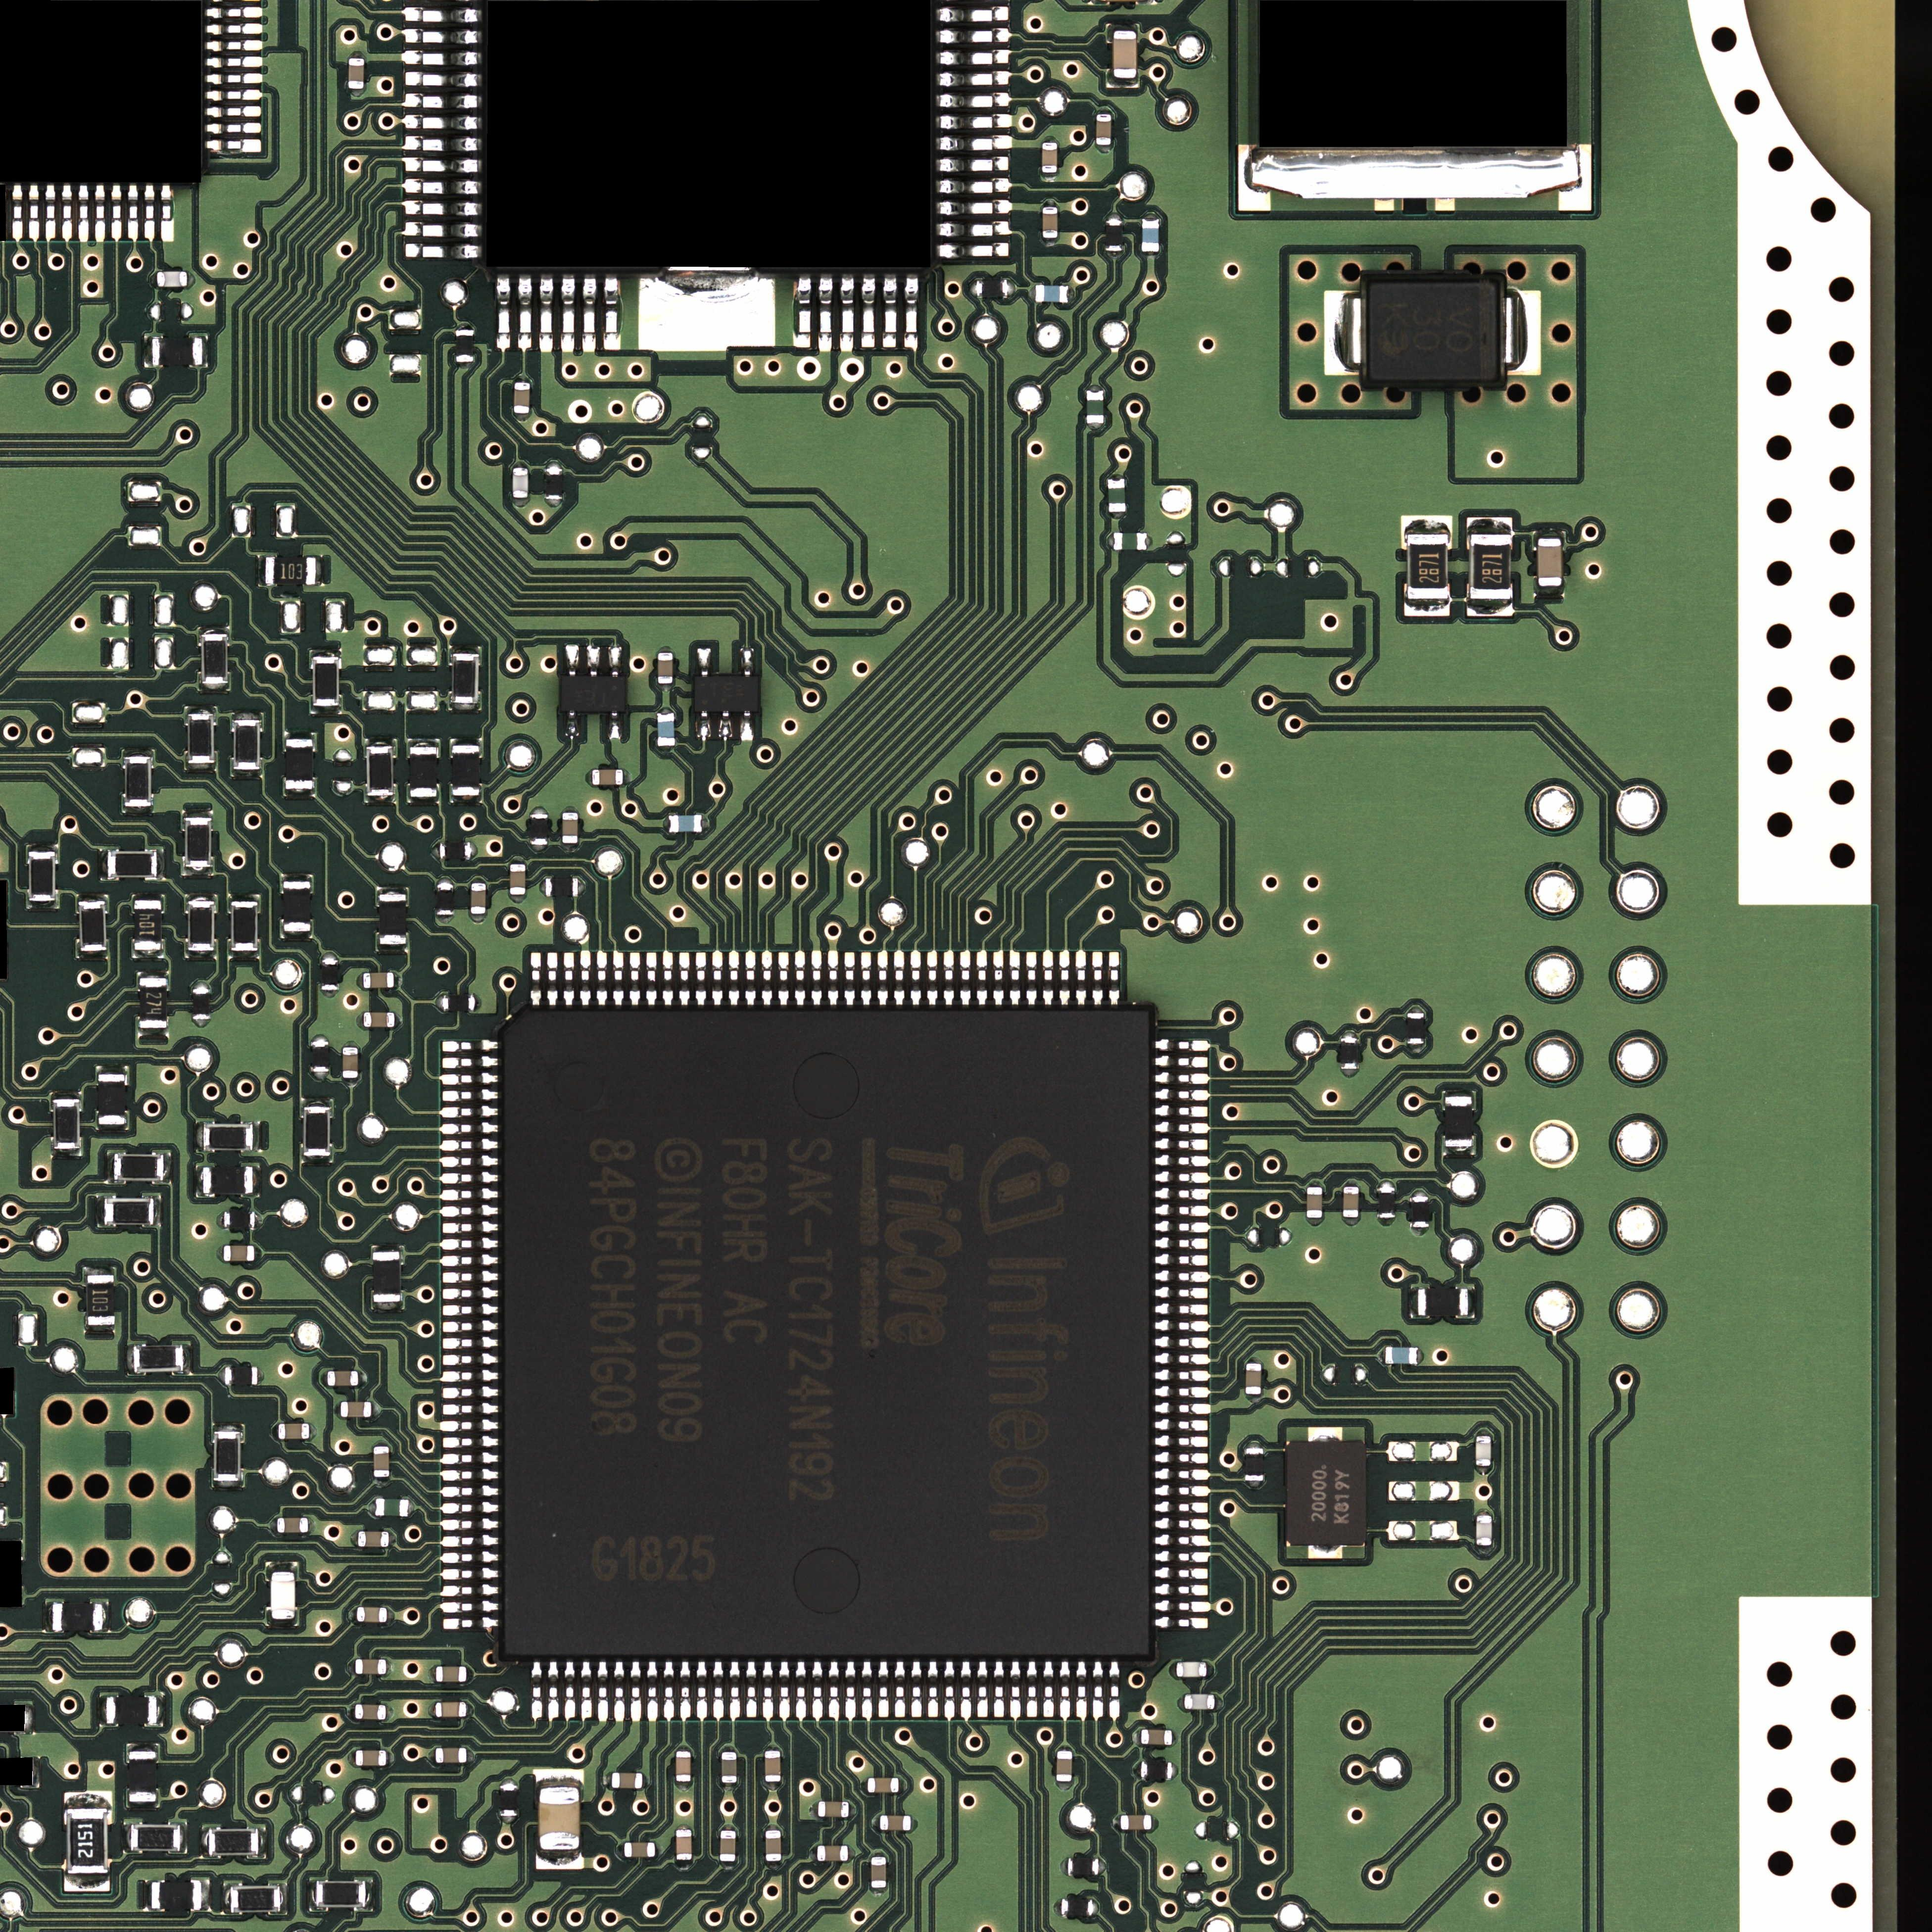Package: (501, 1008, 1150, 1656), (1366, 281, 1497, 382), (1284, 1440, 1368, 1545), (1407, 534, 1449, 600), (67, 1808, 108, 1874), (1470, 534, 1511, 600), (540, 1787, 579, 1849), (694, 676, 759, 711), (561, 676, 626, 711), (1417, 1286, 1468, 1316), (451, 745, 479, 796), (265, 557, 317, 586), (283, 881, 311, 931), (152, 338, 202, 366), (409, 747, 437, 796), (285, 740, 313, 789), (152, 1881, 202, 1909), (373, 1253, 402, 1302), (106, 1695, 156, 1723), (53, 1603, 103, 1631), (97, 1074, 126, 1123), (203, 1166, 253, 1194), (1444, 1097, 1472, 1146), (379, 895, 407, 943), (108, 851, 157, 878), (134, 901, 161, 950), (188, 901, 214, 950), (234, 720, 260, 770), (313, 656, 340, 706), (209, 1829, 258, 1856), (140, 978, 166, 1028), (87, 1276, 113, 1325), (203, 1123, 253, 1150), (317, 1881, 366, 1907), (129, 1752, 156, 1801), (214, 1431, 241, 1481), (53, 1099, 80, 1148), (202, 635, 228, 683), (115, 1154, 163, 1180), (232, 1886, 280, 1913), (134, 1345, 182, 1371), (30, 851, 55, 901), (126, 757, 150, 807), (186, 817, 211, 867), (368, 747, 393, 796), (131, 1826, 180, 1851), (104, 1200, 154, 1224), (188, 715, 212, 763), (453, 655, 478, 702), (80, 902, 104, 950), (232, 902, 257, 950), (304, 1108, 329, 1155), (1537, 538, 1562, 586), (271, 1573, 295, 1619), (1113, 30, 1136, 78), (545, 878, 579, 897), (225, 1366, 258, 1385), (1244, 1447, 1263, 1481), (977, 280, 1008, 299), (669, 816, 702, 833), (375, 1499, 409, 1516), (1113, 533, 1146, 550), (1035, 285, 1069, 303), (225, 1210, 255, 1230), (456, 329, 474, 361), (439, 842, 471, 860), (531, 814, 548, 846), (193, 987, 211, 1019), (278, 1422, 310, 1440), (442, 994, 474, 1012), (1086, 391, 1104, 423), (1141, 219, 1159, 251), (1108, 479, 1125, 511), (1385, 1346, 1417, 1364), (1341, 1039, 1359, 1070), (1412, 1196, 1430, 1228), (1407, 1012, 1424, 1044), (1062, 1898, 1093, 1916), (658, 713, 674, 747), (545, 469, 563, 499), (311, 1042, 329, 1072), (1069, 1858, 1099, 1875), (363, 973, 395, 989), (322, 959, 338, 991), (437, 883, 453, 915), (563, 812, 579, 844), (867, 1778, 899, 1794), (817, 1801, 849, 1817), (357, 1530, 389, 1546), (223, 1246, 255, 1261), (373, 1445, 389, 1477), (327, 1371, 359, 1387), (363, 1012, 395, 1028), (879, 1815, 911, 1831), (435, 1748, 467, 1764), (435, 1667, 467, 1683), (1042, 207, 1058, 239), (1106, 219, 1122, 251), (471, 883, 487, 913), (157, 271, 188, 287), (510, 865, 525, 895), (593, 770, 623, 786), (349, 58, 364, 88), (513, 469, 529, 499), (625, 1842, 655, 1858), (501, 1785, 517, 1815), (356, 1704, 386, 1720), (764, 1752, 780, 1782), (817, 1845, 847, 1861), (676, 1752, 692, 1782), (612, 1773, 642, 1789), (720, 1831, 736, 1861), (870, 1858, 886, 1888), (435, 1702, 465, 1718), (341, 1401, 372, 1417), (676, 1829, 692, 1859), (357, 1606, 387, 1622), (356, 1750, 386, 1766), (1476, 1514, 1491, 1545), (1476, 1437, 1491, 1467), (1177, 1661, 1207, 1677), (1246, 1364, 1261, 1394), (1141, 1729, 1171, 1744), (1343, 1187, 1359, 1217), (1056, 1752, 1072, 1782), (1141, 1762, 1171, 1778), (1307, 1187, 1323, 1217), (1378, 1187, 1394, 1217), (515, 382, 529, 414), (722, 1752, 736, 1783), (1042, 143, 1058, 172), (1120, 1815, 1152, 1829), (1185, 1693, 1214, 1709), (658, 653, 672, 683), (356, 1660, 386, 1674), (343, 1047, 357, 1077), (766, 1831, 780, 1861), (278, 1518, 308, 1532), (1097, 115, 1111, 145)
Solder: (1238, 150, 1591, 211), (639, 278, 775, 350), (1323, 290, 1366, 375), (1499, 290, 1541, 375), (405, 50, 483, 65), (403, 179, 481, 195), (405, 200, 481, 216), (603, 274, 619, 350), (817, 274, 833, 350), (839, 274, 855, 350), (794, 274, 810, 349), (938, 92, 1012, 108), (938, 200, 1012, 216), (938, 242, 1010, 258), (938, 221, 1010, 237), (938, 7, 1008, 23), (405, 30, 483, 44), (405, 73, 483, 87), (403, 94, 481, 108), (405, 157, 483, 172), (405, 244, 483, 258), (939, 28, 1008, 44), (939, 50, 1008, 65), (939, 71, 1008, 87), (939, 156, 1008, 172), (405, 7, 481, 21), (497, 272, 511, 349), (405, 115, 481, 129), (405, 136, 481, 150), (405, 221, 481, 235), (540, 274, 554, 350), (582, 276, 596, 352), (518, 274, 533, 349), (561, 276, 575, 350), (862, 274, 876, 349), (883, 274, 897, 349), (904, 274, 918, 349), (938, 115, 1012, 129), (938, 136, 1012, 150), (938, 179, 1012, 193), (1401, 517, 1453, 534), (64, 1790, 111, 1808), (536, 1769, 584, 1787), (536, 1851, 584, 1868), (64, 1874, 110, 1891), (1467, 517, 1513, 534), (442, 1072, 499, 1086), (442, 1270, 499, 1284), (442, 1155, 499, 1169), (441, 1237, 497, 1251), (441, 1568, 497, 1582), (205, 120, 262, 134), (1467, 600, 1514, 616), (1155, 1187, 1208, 1201), (1155, 1138, 1208, 1152), (1405, 600, 1451, 616), (441, 1419, 499, 1431), (441, 1601, 499, 1614), (580, 1661, 593, 1720), (943, 1661, 955, 1720), (1092, 1661, 1104, 1720), (441, 1123, 499, 1136), (441, 1139, 499, 1152), (441, 1171, 499, 1184), (441, 1468, 499, 1481), (94, 184, 106, 242), (442, 1040, 499, 1053), (442, 1338, 499, 1350), (442, 1056, 499, 1069), (442, 1387, 499, 1399), (442, 1320, 499, 1332), (442, 1403, 499, 1415), (442, 1437, 499, 1449), (442, 1353, 499, 1366), (442, 1304, 499, 1316), (442, 1288, 499, 1300), (442, 1369, 499, 1382), (442, 1090, 499, 1102), (442, 1617, 499, 1629), (909, 950, 922, 1007), (1058, 950, 1070, 1007), (1154, 1385, 1210, 1398), (977, 1661, 989, 1718), (441, 1254, 497, 1267), (441, 1221, 497, 1233), (442, 1187, 499, 1200), (442, 1453, 499, 1465), (442, 1486, 499, 1499), (442, 1502, 499, 1514), (441, 1520, 497, 1532), (442, 1536, 499, 1548), (442, 1585, 499, 1598), (205, 7, 262, 19), (143, 184, 156, 241), (161, 184, 173, 241), (205, 39, 262, 51), (205, 73, 262, 85), (205, 88, 262, 101), (205, 104, 262, 117), (205, 140, 262, 152), (761, 952, 773, 1007), (711, 952, 724, 1007), (860, 952, 872, 1007), (529, 952, 541, 1007), (1155, 1336, 1210, 1348), (1155, 1369, 1210, 1382), (1154, 1484, 1208, 1497), (442, 1106, 497, 1118), (442, 1205, 497, 1217), (442, 1552, 497, 1564), (207, 23, 262, 35), (207, 55, 262, 67), (810, 952, 823, 1005), (612, 952, 625, 1005), (959, 952, 971, 1005), (563, 952, 575, 1005), (596, 952, 609, 1005), (662, 952, 674, 1005), (1155, 1205, 1208, 1217), (1155, 1221, 1208, 1233), (1155, 1237, 1208, 1249), (1155, 1304, 1208, 1316), (1155, 1254, 1208, 1267), (1155, 1171, 1208, 1184), (1155, 1286, 1208, 1299), (1155, 1270, 1208, 1283), (1155, 1320, 1208, 1332), (1155, 1155, 1208, 1168), (1092, 952, 1104, 1005), (1155, 1122, 1208, 1134), (1155, 1106, 1208, 1118), (1155, 1072, 1208, 1085), (1155, 1056, 1208, 1069), (1155, 1419, 1208, 1431), (1155, 1039, 1208, 1051), (1155, 1088, 1208, 1100), (1008, 952, 1021, 1005), (993, 952, 1005, 1005), (1042, 952, 1054, 1005), (1155, 1601, 1208, 1614), (1155, 1583, 1208, 1596), (1155, 1617, 1208, 1629), (1155, 1568, 1208, 1580), (1155, 1534, 1208, 1546), (1155, 1518, 1208, 1530), (1155, 1502, 1208, 1514), (1155, 1435, 1208, 1447), (1155, 1453, 1208, 1465), (1155, 1468, 1208, 1481), (713, 1661, 724, 1721), (679, 1661, 690, 1721), (697, 1661, 708, 1721), (663, 1661, 674, 1721), (778, 1661, 789, 1721), (796, 1661, 807, 1721), (846, 1661, 856, 1721), (648, 1661, 658, 1721), (614, 1661, 625, 1721), (598, 1661, 609, 1721), (630, 1661, 640, 1721), (747, 1661, 757, 1720), (763, 1661, 773, 1720), (729, 1661, 740, 1720), (812, 1661, 823, 1720), (828, 1661, 839, 1720), (862, 1661, 872, 1720), (531, 1661, 541, 1720), (548, 1661, 559, 1720), (564, 1661, 575, 1720), (1109, 1661, 1120, 1720), (1076, 1661, 1086, 1720), (1060, 1661, 1070, 1720), (961, 1661, 971, 1720), (78, 184, 88, 242), (111, 184, 122, 242), (127, 184, 138, 242), (745, 950, 755, 1007), (729, 950, 740, 1007), (878, 950, 888, 1007), (893, 950, 904, 1007), (878, 1661, 888, 1718), (911, 1661, 922, 1718), (927, 1661, 938, 1718), (895, 1661, 906, 1718), (1154, 1353, 1210, 1364), (1076, 950, 1086, 1007), (1044, 1661, 1054, 1718), (1010, 1661, 1021, 1718), (994, 1661, 1005, 1718), (1026, 1661, 1037, 1718), (12, 184, 23, 241), (28, 184, 39, 241), (46, 184, 57, 241), (62, 184, 73, 241), (794, 952, 805, 1007), (778, 952, 789, 1007), (695, 952, 706, 1007), (679, 952, 690, 1007), (547, 952, 557, 1007), (1155, 1403, 1210, 1414), (828, 952, 839, 1005), (844, 952, 855, 1005), (630, 952, 640, 1005), (943, 952, 954, 1005), (646, 952, 656, 1005), (927, 952, 938, 1005), (580, 952, 591, 1005), (1109, 952, 1120, 1005), (1026, 952, 1037, 1005), (977, 952, 987, 1005), (1155, 1552, 1208, 1562), (1307, 1545, 1343, 1559), (1307, 1428, 1343, 1440), (740, 711, 754, 741), (564, 646, 579, 676), (586, 646, 600, 676), (697, 648, 711, 676), (697, 711, 711, 740), (718, 711, 732, 738), (609, 646, 621, 676), (741, 648, 754, 676), (1108, 78, 1139, 88), (609, 713, 621, 740), (303, 1097, 333, 1108), (566, 711, 579, 736), (366, 736, 395, 747), (377, 885, 409, 893), (163, 1152, 172, 1184), (182, 1343, 191, 1375), (301, 1155, 333, 1164), (96, 1196, 104, 1228), (364, 1879, 373, 1911), (265, 1562, 297, 1571), (281, 872, 311, 881), (186, 763, 216, 771), (186, 950, 216, 959), (228, 950, 258, 959), (122, 748, 152, 757), (186, 892, 216, 901), (133, 950, 163, 959), (377, 943, 407, 952), (257, 556, 265, 586), (311, 706, 341, 715), (232, 711, 262, 720), (186, 706, 216, 715), (232, 770, 262, 778), (198, 626, 228, 635), (138, 970, 168, 978), (99, 849, 108, 879), (409, 796, 439, 805), (156, 849, 165, 879), (182, 867, 212, 876), (281, 931, 311, 939), (195, 1166, 203, 1196), (51, 1148, 81, 1157), (126, 1345, 134, 1375), (97, 1065, 127, 1074), (372, 1244, 402, 1253), (212, 1481, 242, 1490), (127, 1743, 157, 1752), (44, 1601, 53, 1631), (1534, 529, 1564, 538), (1444, 1146, 1474, 1155), (27, 1704, 35, 1734), (143, 338, 152, 366), (409, 738, 437, 747), (451, 736, 479, 745), (285, 731, 313, 740), (200, 683, 228, 692), (78, 893, 106, 902), (230, 893, 258, 902), (28, 844, 57, 853), (85, 1267, 113, 1276), (214, 1422, 242, 1431), (1536, 586, 1564, 594), (80, 950, 106, 959), (451, 702, 478, 711), (366, 794, 393, 803), (310, 649, 341, 656), (106, 1152, 113, 1184), (310, 1879, 317, 1911), (223, 1882, 230, 1914), (202, 1879, 209, 1911), (1410, 1286, 1417, 1318), (34, 1757, 41, 1789), (182, 810, 212, 817), (122, 807, 152, 814), (315, 556, 322, 586), (285, 789, 315, 796), (253, 1122, 260, 1152), (51, 1092, 81, 1099), (196, 1122, 203, 1152), (138, 1028, 168, 1035), (85, 1325, 115, 1332), (97, 1123, 127, 1131), (154, 1196, 161, 1226), (253, 1166, 260, 1196), (258, 1828, 265, 1858), (180, 1822, 188, 1852), (145, 1881, 152, 1911), (280, 1884, 287, 1914), (103, 1601, 110, 1631), (202, 1828, 209, 1858), (124, 1822, 131, 1852), (1108, 23, 1138, 30), (1468, 1288, 1476, 1318), (451, 796, 479, 803), (134, 893, 163, 901), (28, 901, 57, 908), (451, 646, 479, 653), (373, 1302, 402, 1309), (267, 1619, 295, 1626), (127, 1801, 156, 1808), (1444, 1090, 1472, 1097), (202, 338, 209, 364), (435, 915, 455, 924), (157, 1695, 163, 1727), (101, 1695, 106, 1725), (193, 1019, 211, 1028), (341, 1077, 359, 1086), (311, 1033, 329, 1042), (545, 499, 563, 508), (764, 1782, 782, 1790), (1341, 1069, 1359, 1077), (1378, 1217, 1396, 1226), (1407, 1044, 1424, 1053), (1060, 1858, 1069, 1875), (1053, 1898, 1062, 1916), (349, 88, 364, 97), (471, 915, 487, 924), (432, 842, 441, 858), (437, 876, 453, 885), (216, 1246, 225, 1261), (356, 1012, 364, 1028), (216, 1212, 225, 1228), (513, 460, 529, 469), (510, 895, 525, 904), (510, 856, 525, 865), (513, 499, 529, 508), (623, 770, 632, 786), (563, 805, 579, 814), (701, 816, 709, 832), (676, 1782, 692, 1790), (676, 1859, 692, 1868), (501, 1815, 517, 1824), (810, 1801, 819, 1817), (603, 1773, 612, 1789), (1042, 198, 1058, 207), (1042, 134, 1058, 143), (1095, 145, 1111, 154), (1343, 1217, 1359, 1226), (1307, 1217, 1323, 1226), (1056, 1782, 1072, 1790), (1132, 1762, 1141, 1778), (1207, 1661, 1215, 1677), (1168, 1661, 1177, 1677), (1476, 1467, 1491, 1476), (149, 272, 157, 287), (456, 322, 474, 329), (188, 272, 196, 287), (456, 363, 474, 370), (320, 991, 338, 998), (311, 1072, 329, 1079), (218, 1368, 225, 1385), (255, 1212, 262, 1230), (347, 1660, 356, 1674), (428, 1667, 437, 1681), (347, 1704, 356, 1718), (368, 1499, 375, 1516), (513, 414, 531, 421), (545, 460, 563, 467), (531, 846, 548, 853), (658, 747, 676, 754), (531, 807, 548, 814), (579, 878, 586, 895), (538, 878, 545, 895), (662, 816, 669, 833), (764, 1861, 782, 1868), (909, 1815, 918, 1829), (720, 1783, 738, 1790), (899, 1778, 908, 1792), (1086, 384, 1104, 391), (1086, 423, 1104, 430), (1106, 212, 1123, 219), (1097, 106, 1111, 115), (1141, 251, 1159, 258), (1069, 285, 1076, 303), (1108, 472, 1125, 479), (1106, 533, 1113, 550), (1378, 1346, 1385, 1364), (1407, 1005, 1424, 1012), (1177, 1695, 1185, 1709), (1246, 1481, 1263, 1488), (1246, 1442, 1263, 1449), (349, 51, 364, 58), (471, 842, 478, 858), (322, 952, 338, 959), (193, 982, 209, 989), (255, 1246, 262, 1261), (356, 973, 363, 989), (395, 973, 402, 989), (310, 1424, 317, 1440), (373, 1440, 389, 1447), (334, 1401, 341, 1417), (258, 1368, 265, 1384), (359, 1371, 366, 1387), (372, 1401, 379, 1417), (395, 1012, 402, 1028), (350, 1530, 357, 1546), (271, 1518, 278, 1534), (428, 1702, 435, 1718), (373, 1477, 389, 1484), (386, 1750, 393, 1766), (349, 1750, 356, 1766), (970, 281, 977, 297), (563, 844, 579, 851), (617, 1842, 625, 1858), (870, 1888, 886, 1895), (764, 1824, 780, 1831), (870, 1851, 886, 1858), (720, 1824, 736, 1831), (642, 1773, 649, 1789), (655, 1842, 662, 1858), (847, 1845, 855, 1861), (810, 1845, 817, 1861), (720, 1861, 736, 1868), (501, 1778, 517, 1785), (1042, 239, 1058, 246), (1042, 173, 1058, 180), (1143, 212, 1159, 219), (1028, 285, 1035, 301), (1146, 534, 1154, 550), (1412, 1228, 1428, 1235), (1246, 1394, 1261, 1401), (1417, 1348, 1424, 1364), (1412, 1189, 1428, 1196), (1341, 1031, 1357, 1039), (1307, 1180, 1323, 1187), (1378, 1180, 1394, 1187), (1171, 1762, 1178, 1778), (1134, 1729, 1141, 1744), (1099, 1858, 1106, 1874), (1113, 1815, 1120, 1831), (1476, 1546, 1491, 1553), (1476, 1428, 1491, 1435), (343, 1040, 357, 1047), (435, 996, 442, 1010), (320, 1371, 327, 1385), (308, 1518, 315, 1532), (467, 1667, 474, 1681), (389, 1532, 396, 1546), (467, 1748, 474, 1762), (428, 1748, 435, 1762), (386, 1706, 393, 1720), (386, 1660, 393, 1674), (387, 1608, 395, 1622), (350, 1606, 357, 1621), (586, 770, 593, 784), (658, 646, 672, 653), (658, 685, 672, 692), (849, 1803, 856, 1817), (872, 1815, 879, 1829), (862, 1778, 869, 1792), (676, 1744, 690, 1752), (1008, 281, 1016, 295), (1345, 1180, 1359, 1187), (1247, 1357, 1261, 1364), (1171, 1730, 1178, 1744), (1152, 1815, 1159, 1829), (1215, 1695, 1223, 1709), (1058, 1744, 1072, 1752), (409, 1499, 414, 1516), (476, 993, 481, 1010), (1108, 513, 1125, 518), (471, 878, 487, 883), (515, 377, 531, 382), (658, 708, 674, 713), (676, 1824, 692, 1829), (764, 1746, 780, 1752), (1106, 251, 1122, 257), (1093, 1900, 1099, 1916), (1476, 1509, 1491, 1514), (272, 1424, 278, 1438), (467, 1702, 472, 1716), (722, 1746, 736, 1752)
